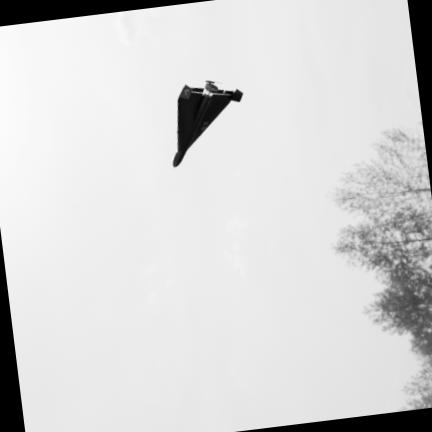Shahed: (172, 80, 241, 165)
